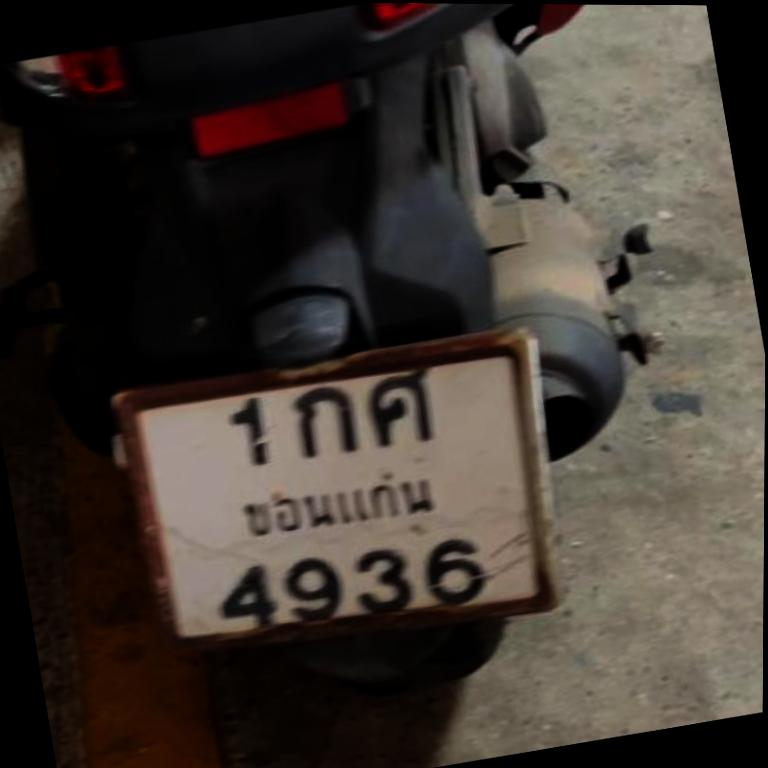license plate: (113, 332, 552, 647)
